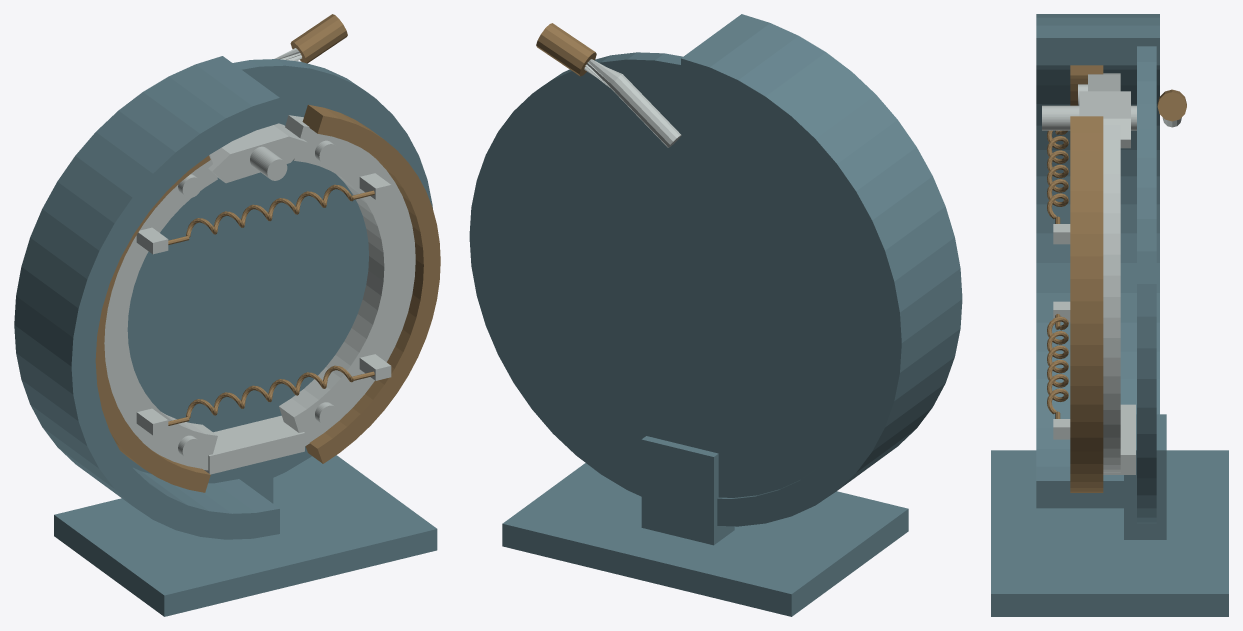
3 views of the same model, side by side, from view 1: azimuth 30°, elevation 25°; view 2: azimuth 150°, elevation 25°; view 3: azimuth 270°, elevation 25° (orthographic). The views are drawn at different scales.
Visible parts, largest first — view 1: WholeRoundBackingPlate, WholeRetainedHalfDrum, WholeGroundedDisplayBase, WholeCurvedShoeWeb0, WholeCurvedFrictionLiningAppearance0, WholeCurvedShoeWeb1, WholeCurvedFrictionLiningAppearance1, WholeLowerAnchorBlock, WholeUpperEccentricSpreader, WholeFrontReturnSpringAppearance0, WholeFrontReturnSpringAppearance1, WholeLeverEndGrip (+6 smaller); view 2: WholeRoundBackingPlate, WholeRetainedHalfDrum, WholeGroundedDisplayBase, WholeBackingStand, WholeFixedOuterCamLever, WholeLeverEndGrip; view 3: WholeGroundedDisplayBase, WholeRetainedHalfDrum, WholeCurvedFrictionLiningAppearance0, WholeRoundBackingPlate, WholeCurvedShoeWeb0, WholeBackingStand, WholeUpperEccentricSpreader, WholeFrontReturnSpringAppearance1, WholeFrontReturnSpringAppearance0, WholeLowerAnchorBlock, WholeUpperCamAxle, WholeLeverEndGrip (+4 smaller).
Part boxes in pixels (x1,y1,x2,y2): WholeRoundBackingPlate: [120, 59, 432, 477]; WholeRetainedHalfDrum: [14, 56, 279, 539]; WholeGroundedDisplayBase: [54, 455, 437, 616]; WholeCurvedShoeWeb0: [279, 115, 415, 446]; WholeCurvedFrictionLiningAppearance0: [302, 104, 440, 463]; WholeCurvedShoeWeb1: [104, 155, 217, 470]; WholeCurvedFrictionLiningAppearance1: [95, 155, 210, 492]; WholeLowerAnchorBlock: [204, 415, 304, 474]; WholeUpperEccentricSpreader: [208, 123, 307, 183]; WholeFrontReturnSpringAppearance0: [168, 184, 374, 244]; WholeFrontReturnSpringAppearance1: [168, 365, 374, 425]; WholeLeverEndGrip: [290, 14, 347, 63]; WholeRoundBackingPlate: [469, 52, 876, 497]; WholeRetainedHalfDrum: [681, 14, 962, 526]; WholeGroundedDisplayBase: [502, 463, 908, 616]; WholeBackingStand: [641, 436, 734, 545]; WholeFixedOuterCamLever: [584, 59, 681, 147]; WholeLeverEndGrip: [536, 23, 596, 76]; WholeGroundedDisplayBase: [991, 450, 1228, 616]; WholeRetainedHalfDrum: [1036, 14, 1159, 508]; WholeCurvedFrictionLiningAppearance0: [1070, 116, 1103, 492]; WholeRoundBackingPlate: [1137, 46, 1156, 523]; WholeCurvedShoeWeb0: [1103, 125, 1120, 472]; WholeBackingStand: [1124, 414, 1166, 539]; WholeUpperEccentricSpreader: [1079, 91, 1130, 148]; WholeFrontReturnSpringAppearance1: [1047, 314, 1068, 418]; WholeFrontReturnSpringAppearance0: [1047, 130, 1068, 223]; WholeLowerAnchorBlock: [1103, 404, 1135, 474]; WholeUpperCamAxle: [1042, 105, 1136, 130]; WholeLeverEndGrip: [1157, 89, 1186, 121].
Size of the model in its own units: 0.9 by 1 by 0.42.
